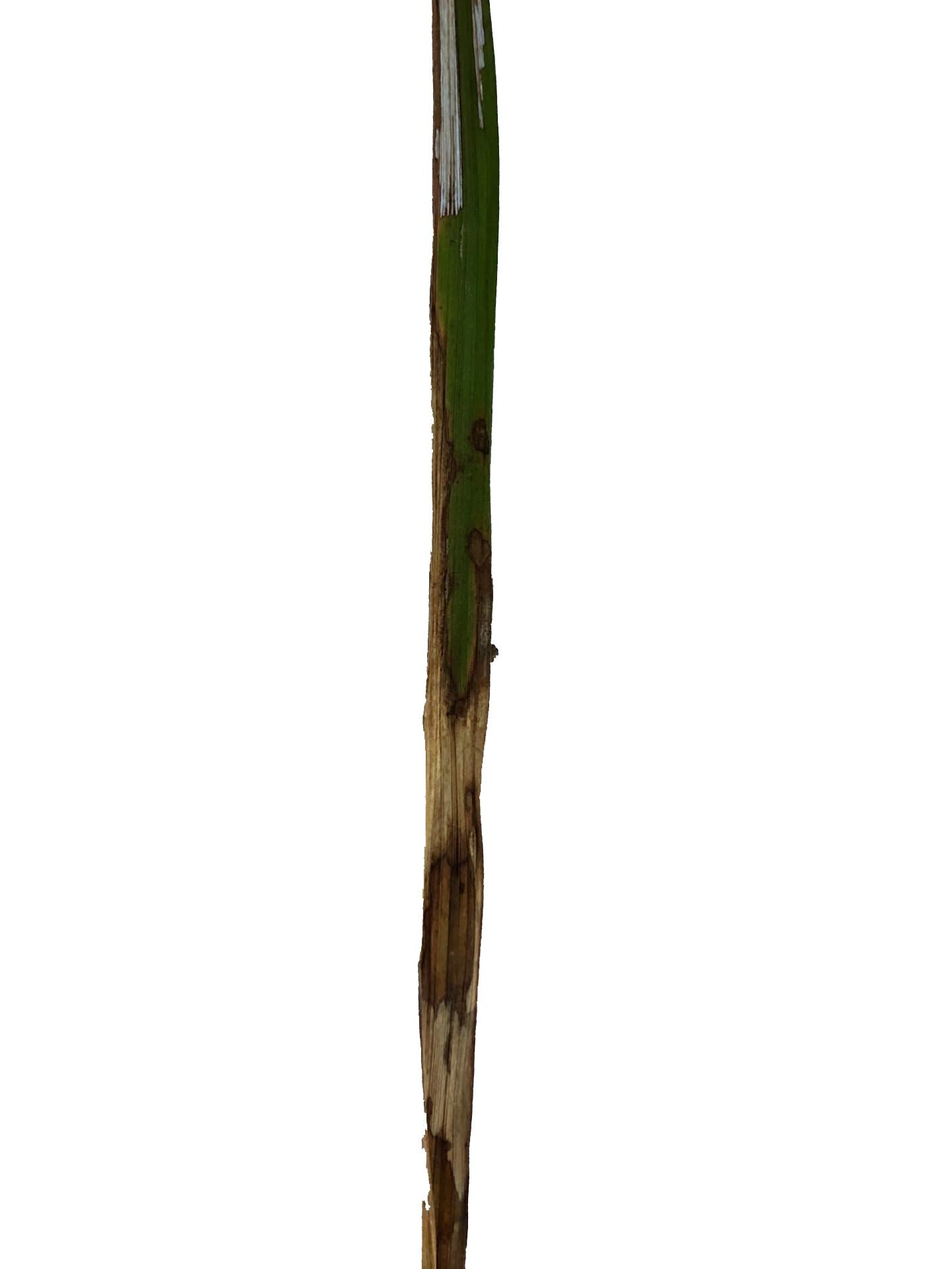Blight: (420, 558, 486, 1269), (426, 0, 476, 225)
